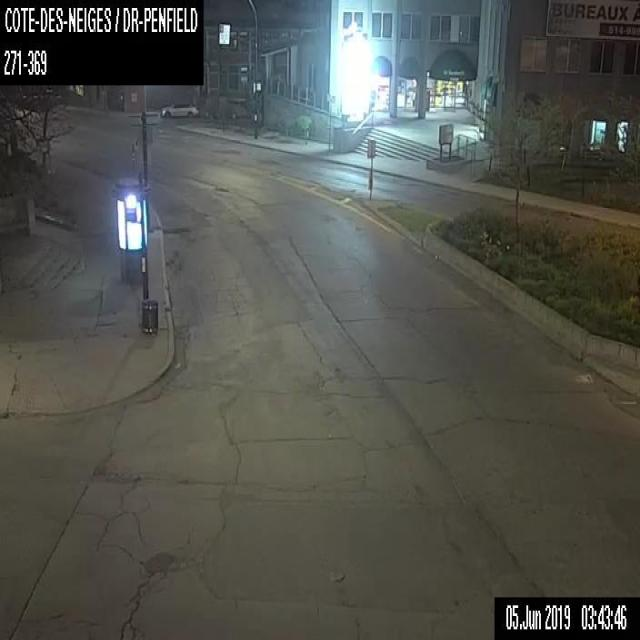vehicle: (159, 99, 197, 116)
